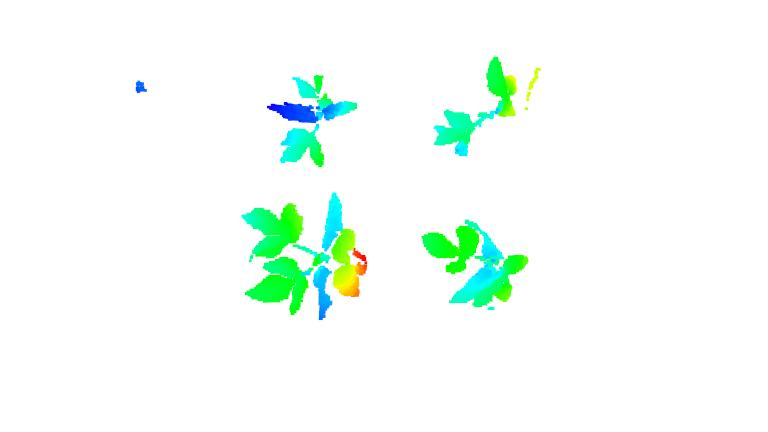mungbean: (240, 188, 375, 324), (418, 215, 532, 315), (260, 69, 362, 171), (433, 56, 520, 159)
